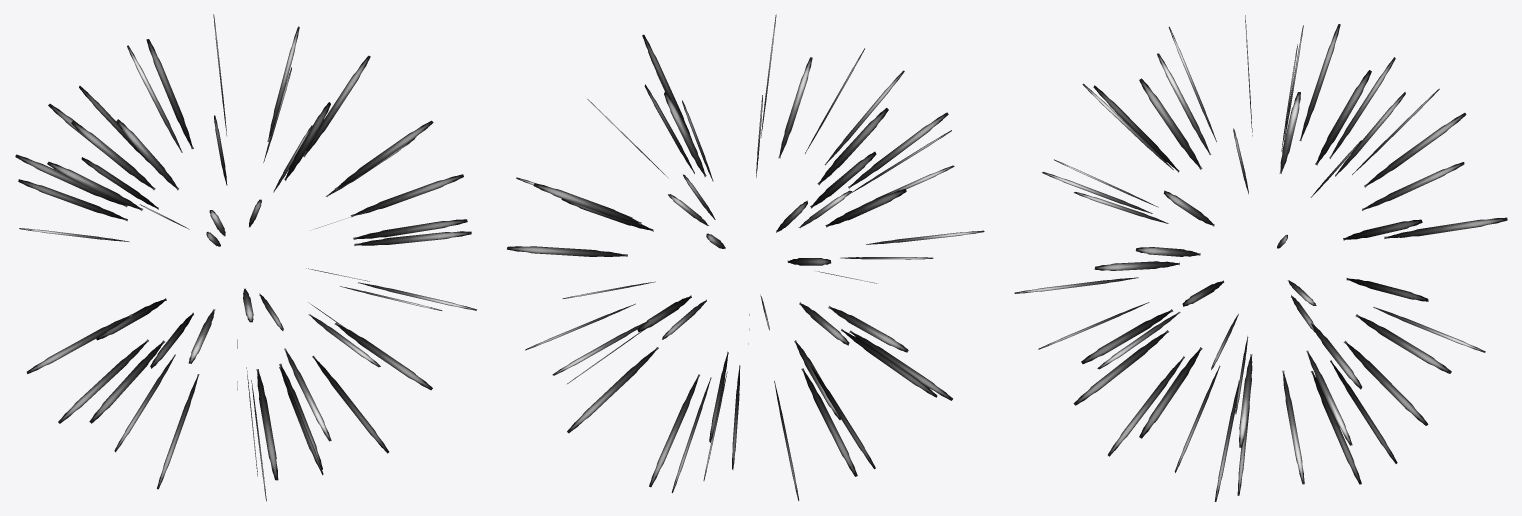
3 views of the same model, side by side, from view 1: azimuth 30°, elevation 25°; view 2: azimuth 150°, elevation 25°; view 3: azimuth 270°, elevation 25° (orthographic).
Parts seen in each view (by area): view 1: T1L5M005_11; view 2: T1L5M005_11; view 3: T1L5M005_11.
Boxes of the visible parts, box(x1,y1,x2,y2) form: T1L5M005_11: box(15, 14, 476, 501); T1L5M005_11: box(507, 14, 984, 500); T1L5M005_11: box(1014, 15, 1507, 501).
Bounding box in the file's own units: 3.85 × 3.83 × 3.94.
